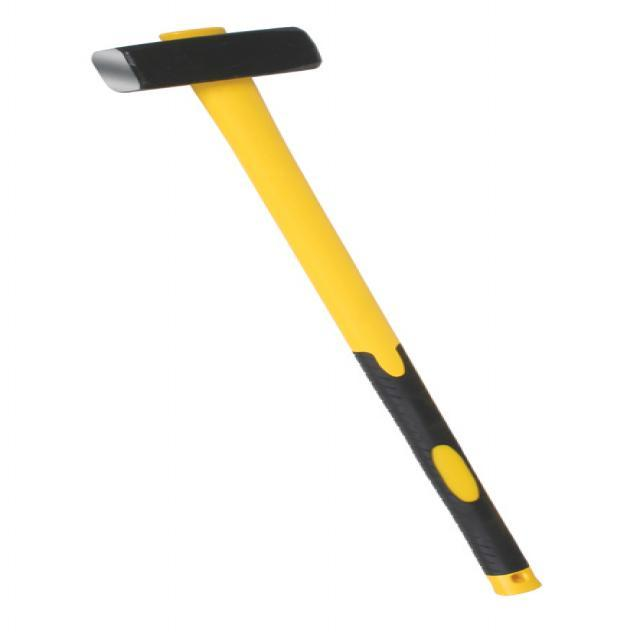hammer: (78, 17, 584, 607)
